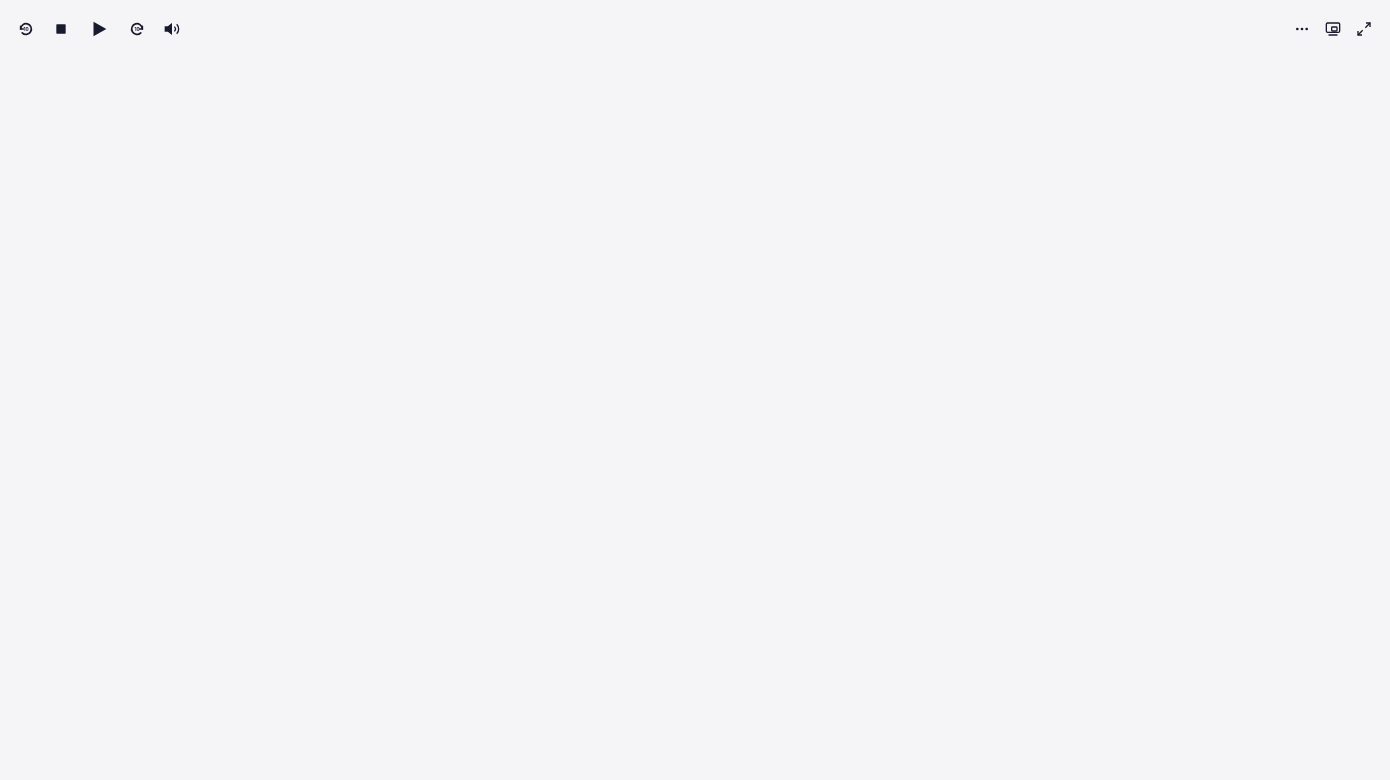
Test: ControlsBottomBar responsive compaction (prexu-52ky) › 200px (logical floor): subtitles also collapses into overflow, leaving only pop-out + fullscreen + more inline — pop-out is still reachable
This screenshot has width=1390, height=780.
Expected: the button named "Pop out floating player" is shown, [1320,15,1347,42]
Expected: the button named "Fullscreen" is shown, [1351,15,1378,42]
What coordinates should you click on to do the following:
click the button named "More controls"
I would click on:
 (1302, 29)
Its box is [1288,15,1316,42].
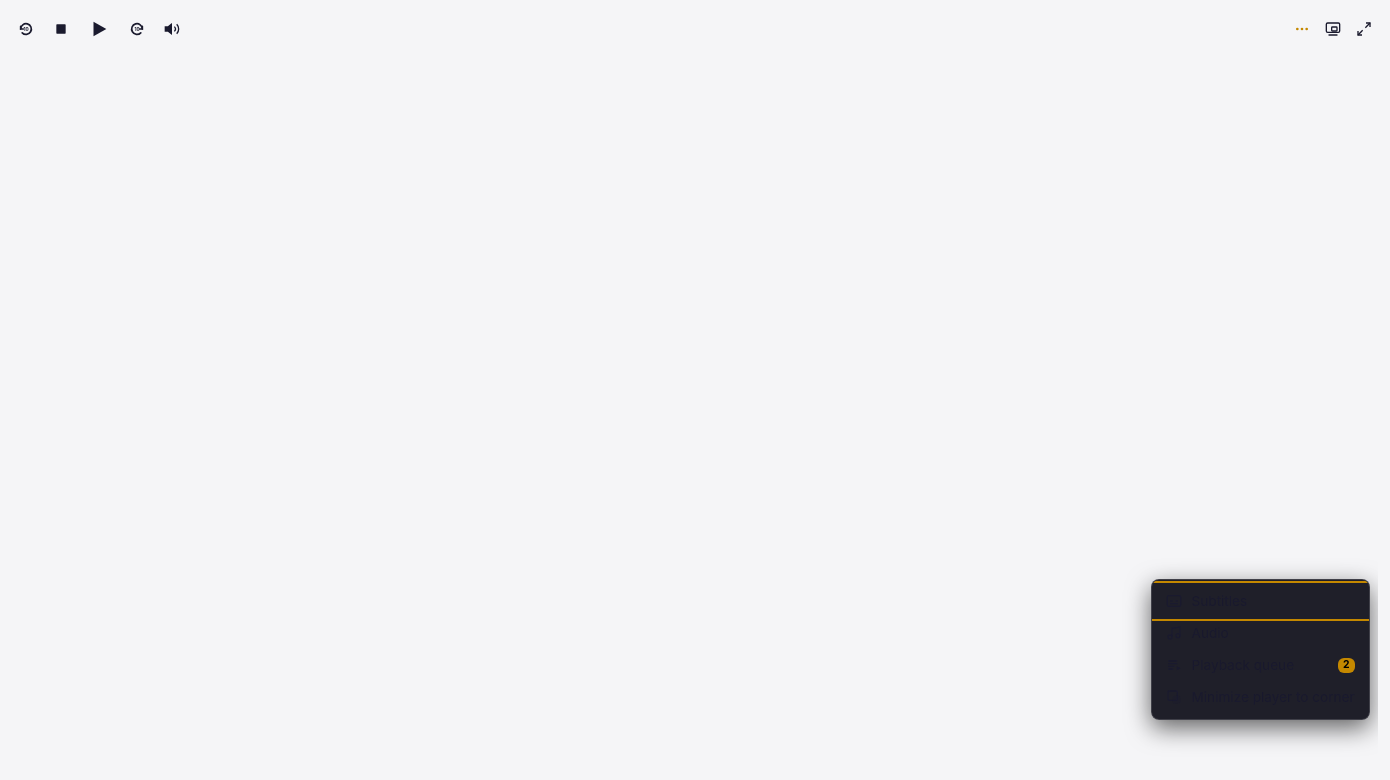
Expected: the menu item "Subtitles" is shown, [1152,585,1369,617]
Expected: the menu item "Audio" is shown, [1152,617,1369,649]
Expected: the menu item "Playback queue 2" is shown, [1152,649,1369,681]
